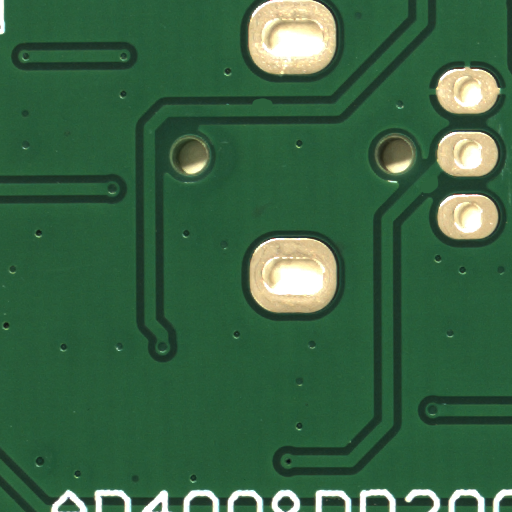Spur: (430, 186, 445, 201), (261, 102, 282, 109)
